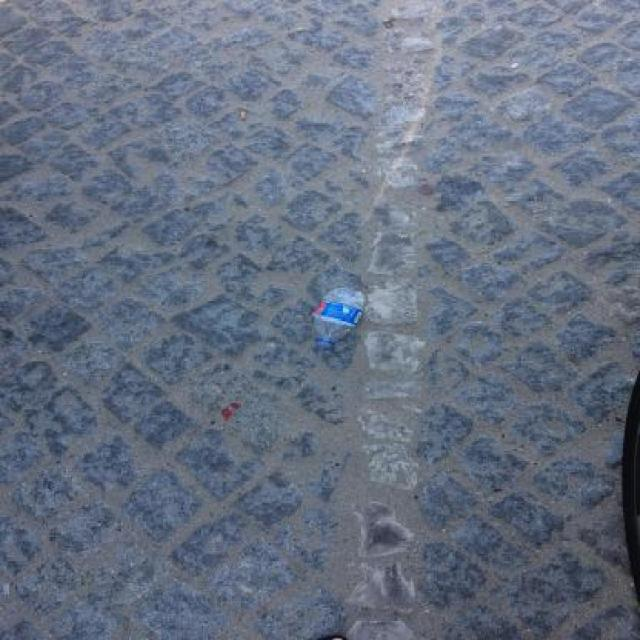plastic: (312, 287, 366, 348)
